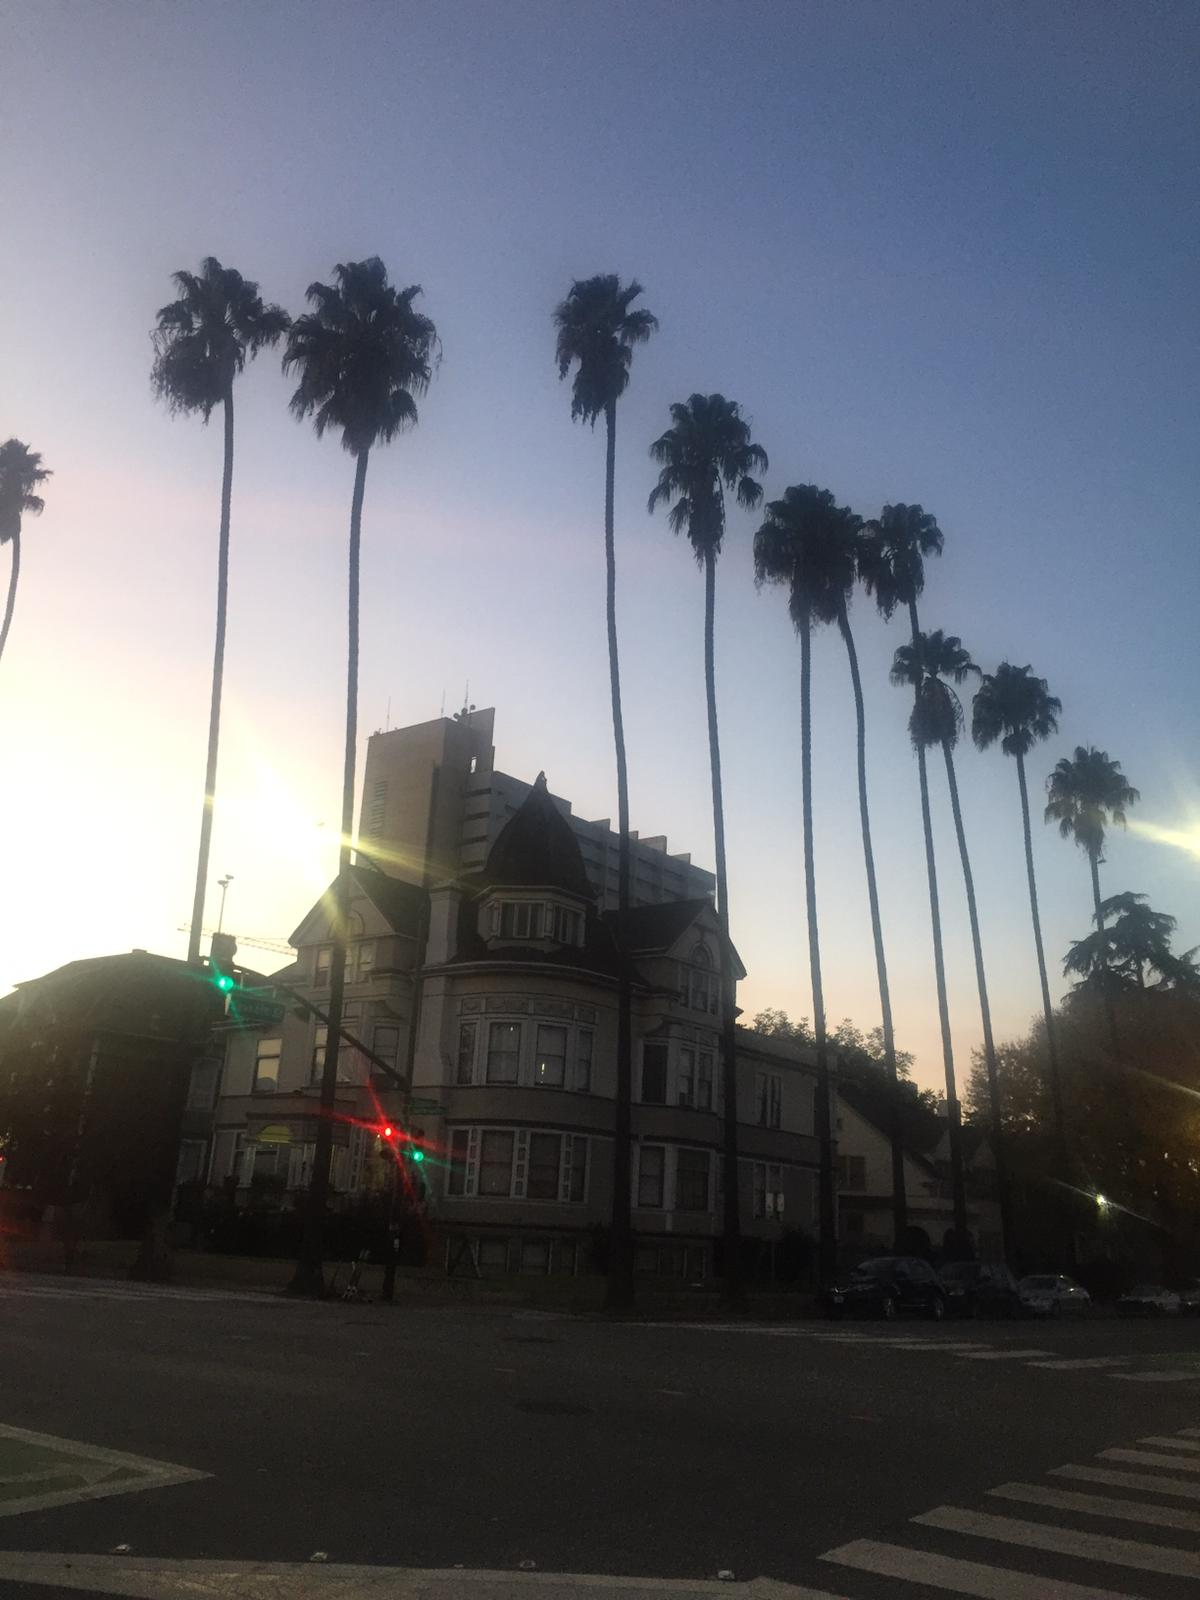plants: (284, 253, 436, 955), (150, 263, 267, 960), (654, 375, 747, 1031), (553, 261, 645, 915), (853, 498, 950, 1106), (763, 477, 853, 1101), (1066, 750, 1200, 1129), (961, 646, 1058, 1128)
